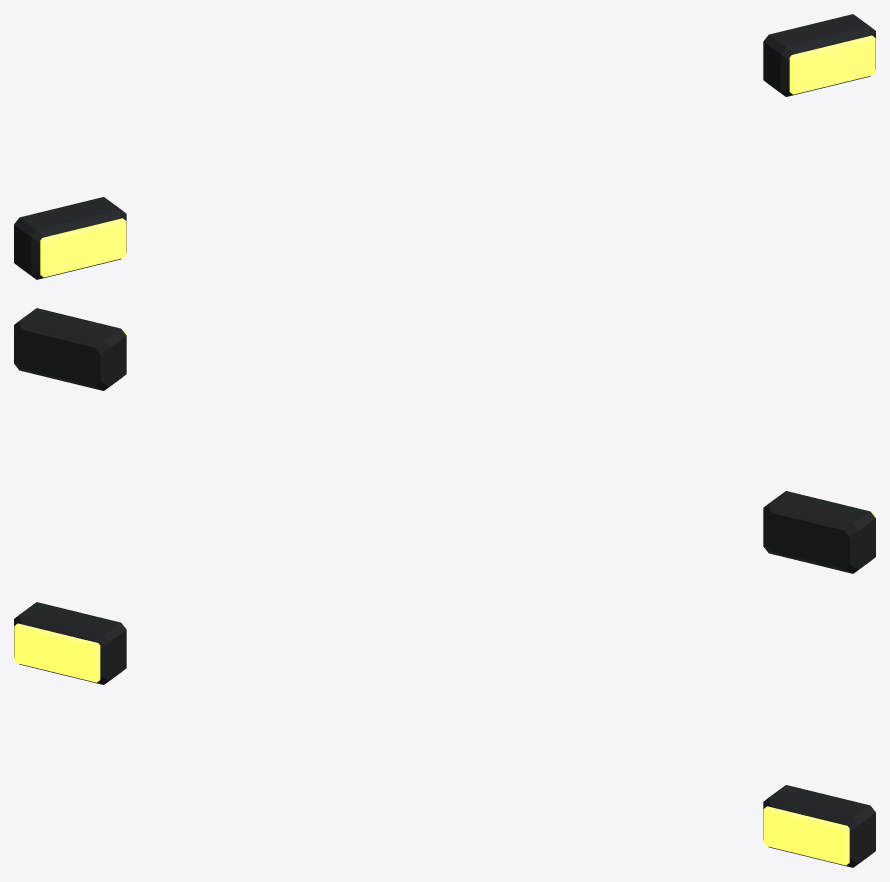
The model's file is brute_500.glb.
3 renders of one model, top to bottom at view 1: azimuth 30°, elevation 25°; view 2: azimuth 150°, elevation 25°; view 3: azimuth 330°, elevation 25°, orthographic.
Visible parts, largest first — view 1: model; view 2: model; view 3: model.
Boxes of the visible parts, x1,y1,x2,y2 form: model: [14, 14, 875, 279]; model: [14, 308, 875, 573]; model: [14, 602, 875, 867].
Size of the model in its own units: 1.24 by 0.0699 by 0.068.
2 materials, 1 textured.
